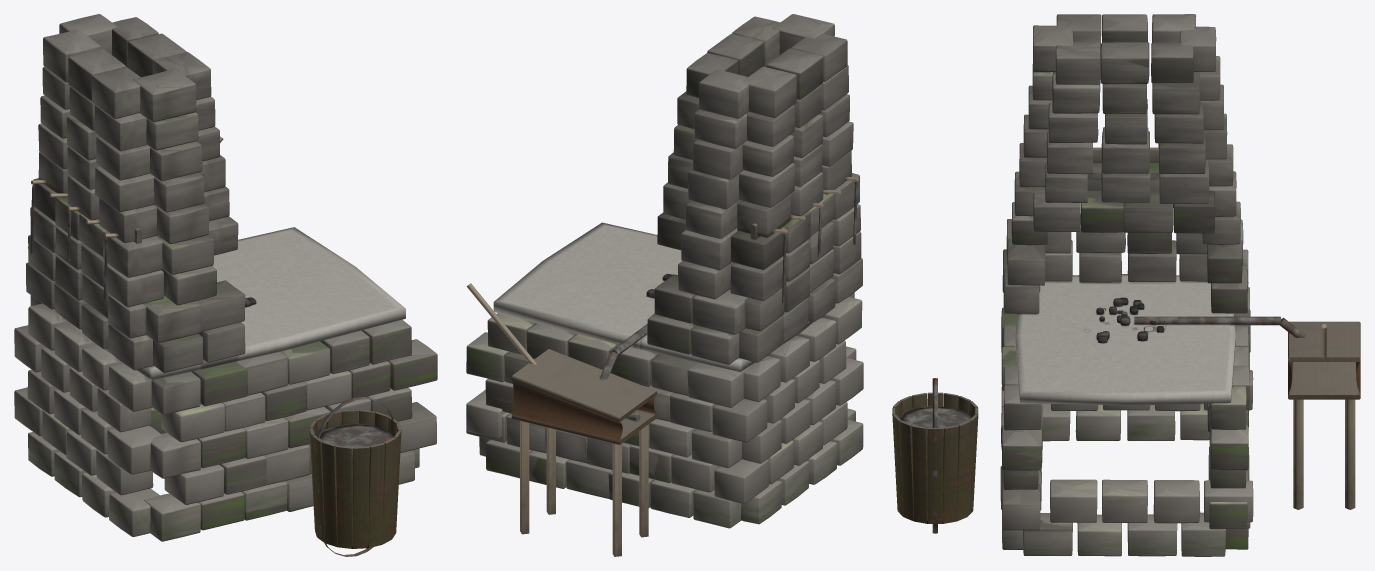
File: SM_Camp_Forge.fbx
3 renders of one model, left to right at view 1: azimuth 30°, elevation 25°; view 2: azimuth 150°, elevation 25°; view 3: azimuth 270°, elevation 25°, orthographic. The views are drawn at different scales.
Parts seen in each view (by area): view 1: SM_Camp_Forge; view 2: SM_Camp_Forge; view 3: SM_Camp_Forge.
Boxes of the visible parts, <box> form: SM_Camp_Forge: <box>14,14,437,556</box>; SM_Camp_Forge: <box>466,14,863,556</box>; SM_Camp_Forge: <box>892,14,1360,556</box>.
Bounding box in the file's own units: 193 × 271 × 278.
